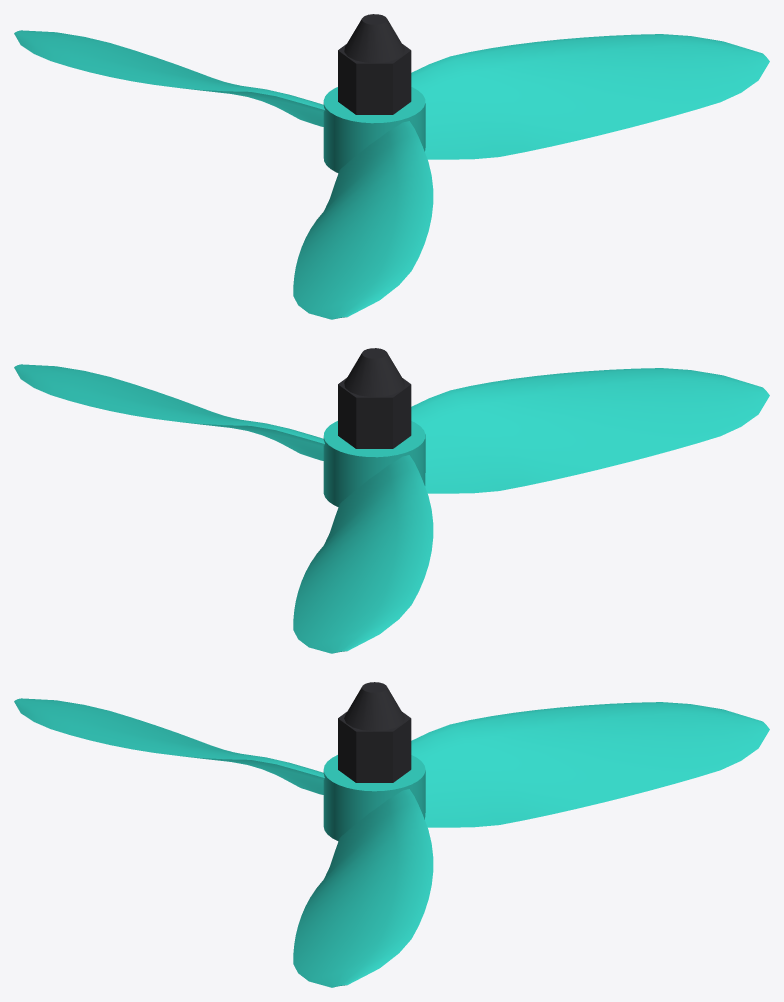
The model's file is prop_3018_3b.glb.
3 views of the same model, one above another, from view 1: azimuth 30°, elevation 25°; view 2: azimuth 150°, elevation 25°; view 3: azimuth 270°, elevation 25° (orthographic).
Parts seen in each view (by area): view 1: prop_3018_3b_M_Prop_3018_3b, prop_3018_3b_M_Nut; view 2: prop_3018_3b_M_Prop_3018_3b, prop_3018_3b_M_Nut; view 3: prop_3018_3b_M_Prop_3018_3b, prop_3018_3b_M_Nut.
Part boxes in pixels (x1=…): prop_3018_3b_M_Prop_3018_3b: x1=14, y1=30, x2=769, y2=319; prop_3018_3b_M_Nut: x1=338, y1=14, x2=411, y2=114; prop_3018_3b_M_Prop_3018_3b: x1=14, y1=364, x2=769, y2=653; prop_3018_3b_M_Nut: x1=338, y1=348, x2=411, y2=448; prop_3018_3b_M_Prop_3018_3b: x1=14, y1=698, x2=769, y2=987; prop_3018_3b_M_Nut: x1=338, y1=682, x2=411, y2=782.
Bounding box in the file's own units: 0.061 × 0.0139 × 0.0667.
